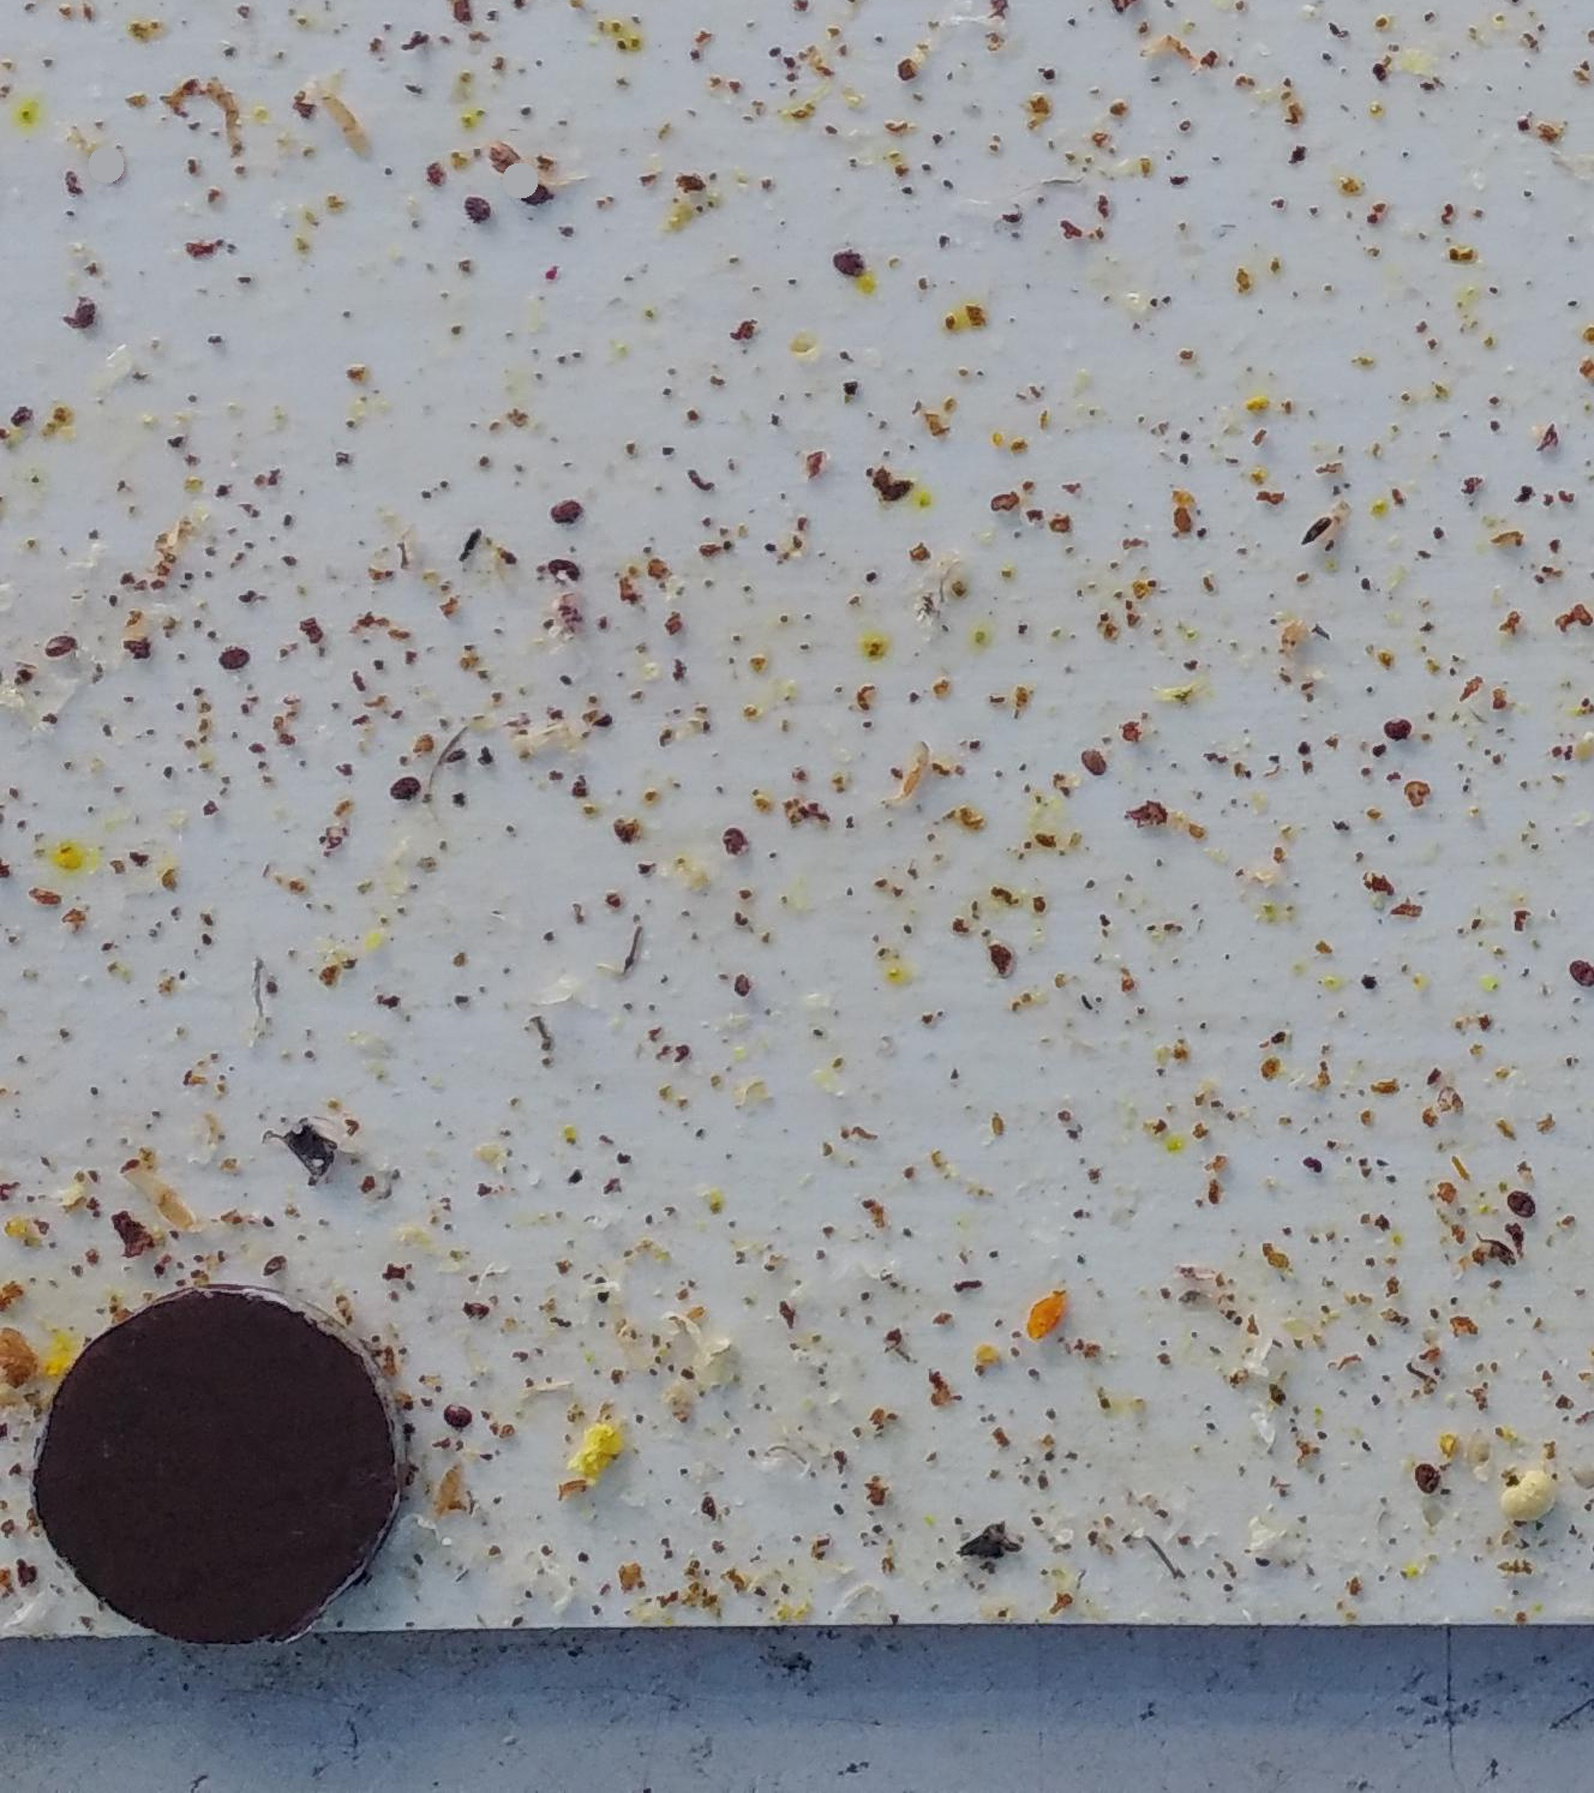Varroa: (69, 302, 98, 332), (540, 560, 571, 589), (1562, 959, 1589, 987), (465, 192, 491, 222), (1380, 717, 1408, 743), (1414, 1461, 1440, 1488), (722, 828, 748, 856), (835, 245, 862, 272), (552, 499, 579, 526), (442, 1404, 469, 1428), (1509, 1191, 1536, 1216), (1083, 743, 1108, 770), (395, 780, 415, 806), (48, 640, 69, 660), (525, 183, 548, 200), (225, 643, 245, 659)
